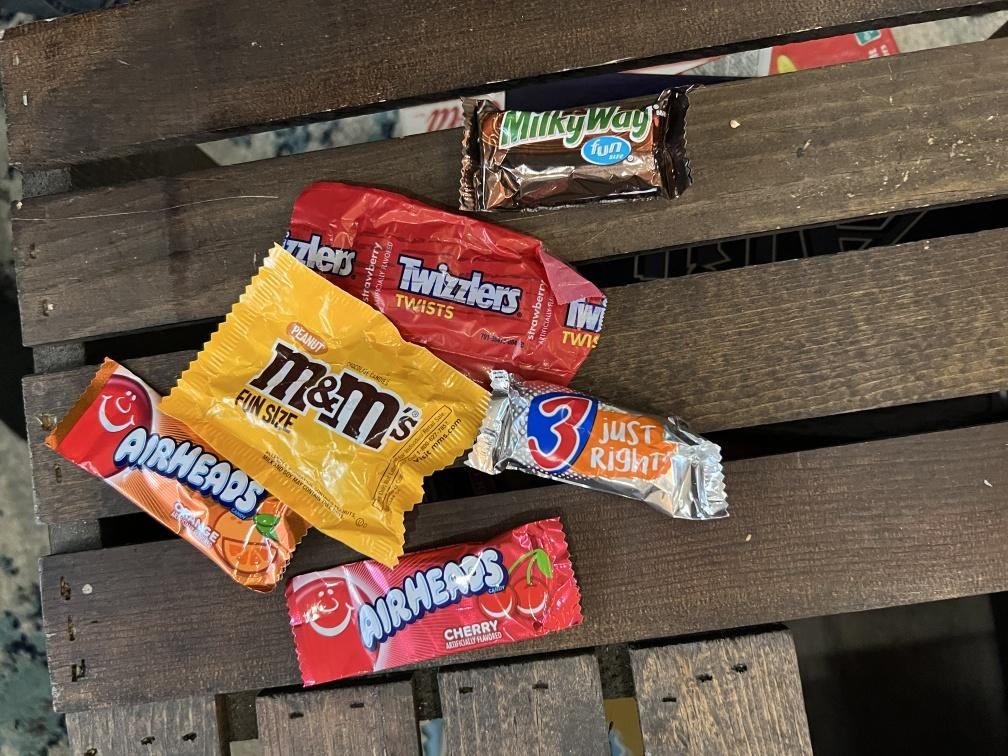MM_regular: (131, 217, 496, 570)
airheads: (47, 350, 315, 603), (269, 512, 594, 699)
milky_way: (443, 77, 719, 229)
three: (474, 362, 742, 546)
twizzlers: (282, 173, 611, 401)
